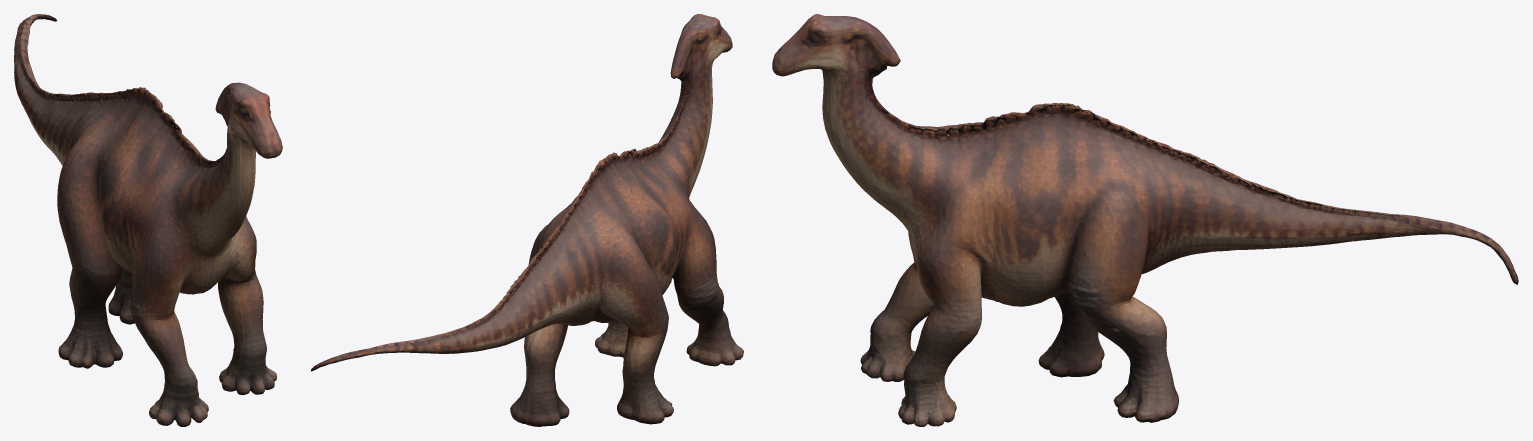
3 views of the same model, side by side, from view 1: azimuth 30°, elevation 25°; view 2: azimuth 150°, elevation 25°; view 3: azimuth 270°, elevation 25° (orthographic). The views are drawn at different scales.
Parts seen in each view (by area): view 1: world; view 2: world; view 3: world.
Boxes of the visible parts, x1,y1,x2,y2 form: world: (14, 14, 282, 426); world: (311, 14, 743, 426); world: (772, 14, 1518, 426).
Bounding box in the file's own units: 5.54 × 9.48 × 17.
1 material, 1 textured.
